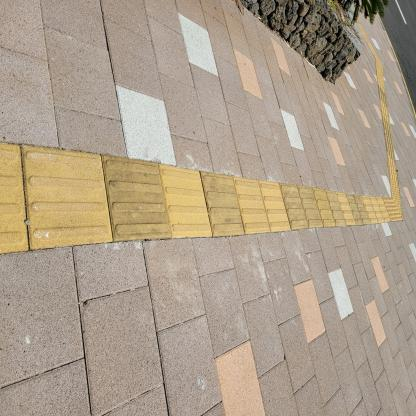podotacti: (0, 132, 409, 259), (353, 10, 401, 133)
